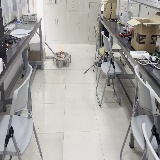fire: (58, 42, 64, 57)
